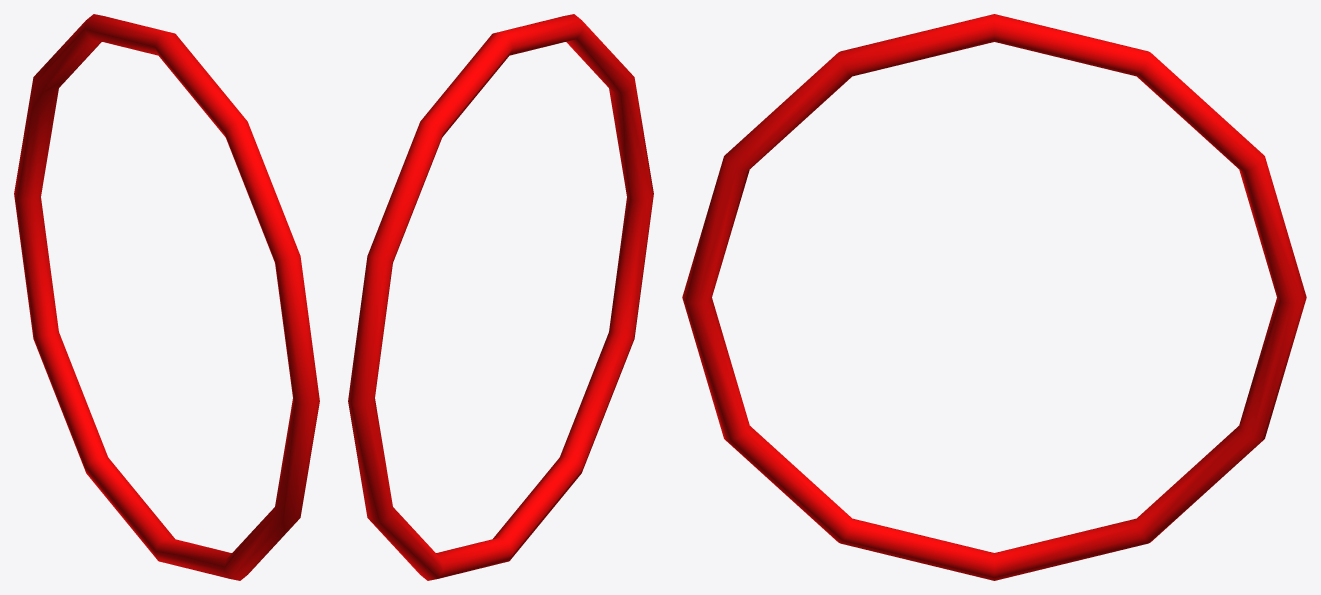
The model's file is RingX.obj.
The picture shows the model from 3 angles, left to right: view 1: azimuth 30°, elevation 25°; view 2: azimuth 150°, elevation 25°; view 3: azimuth 270°, elevation 25°; orthographic projection. The views are drawn at different scales.
Visible parts, largest first — view 1: RotX; view 2: RotX; view 3: RotX.
Boxes of the visible parts, x1,y1,x2,y2 form: RotX: (14, 14, 319, 580); RotX: (348, 14, 653, 580); RotX: (682, 14, 1306, 580).
Bounding box in the file's own units: 0.1 × 2.1 × 2.1.
